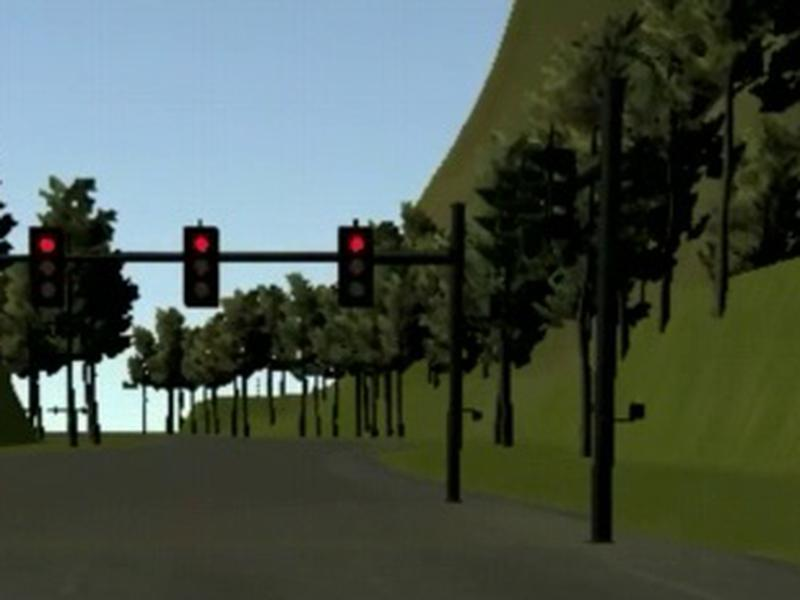Red: (338, 226, 375, 308), (28, 226, 64, 307), (183, 227, 218, 306)
